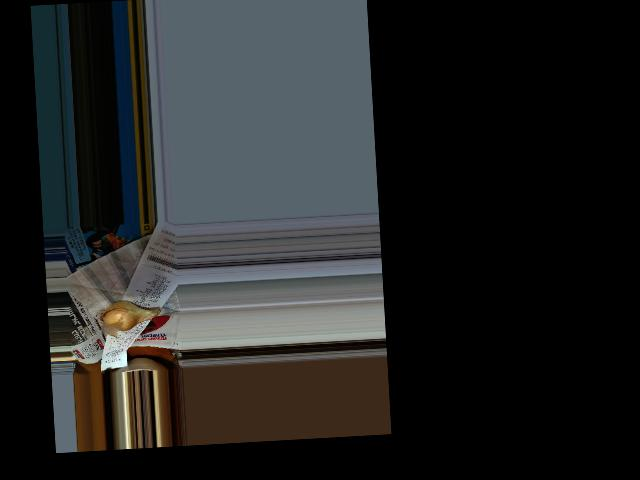onion: (100, 300, 156, 330)
